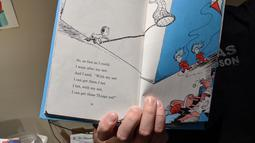text block: (70, 55, 121, 102)
